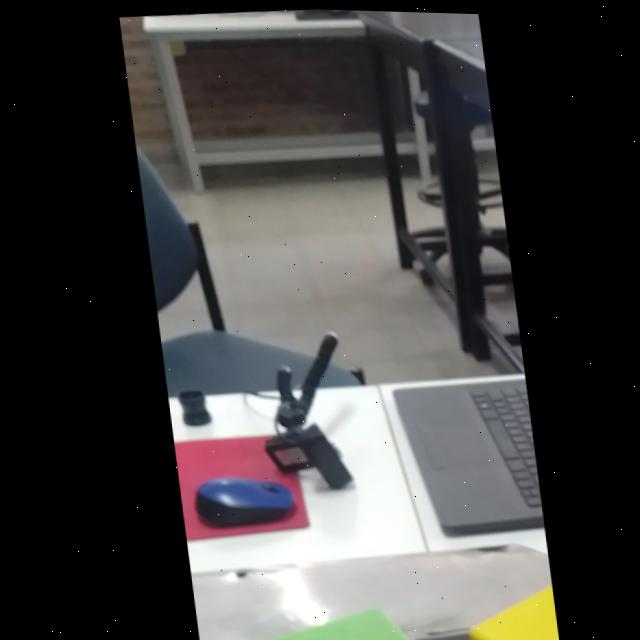greenBox: (242, 593, 425, 640)
yellowBox: (448, 572, 550, 640)
